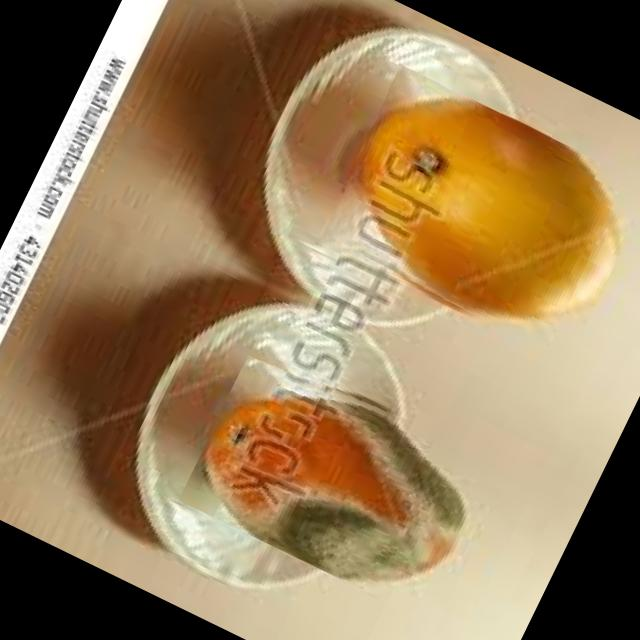Organic: (312, 63, 640, 364), (176, 337, 492, 615)
